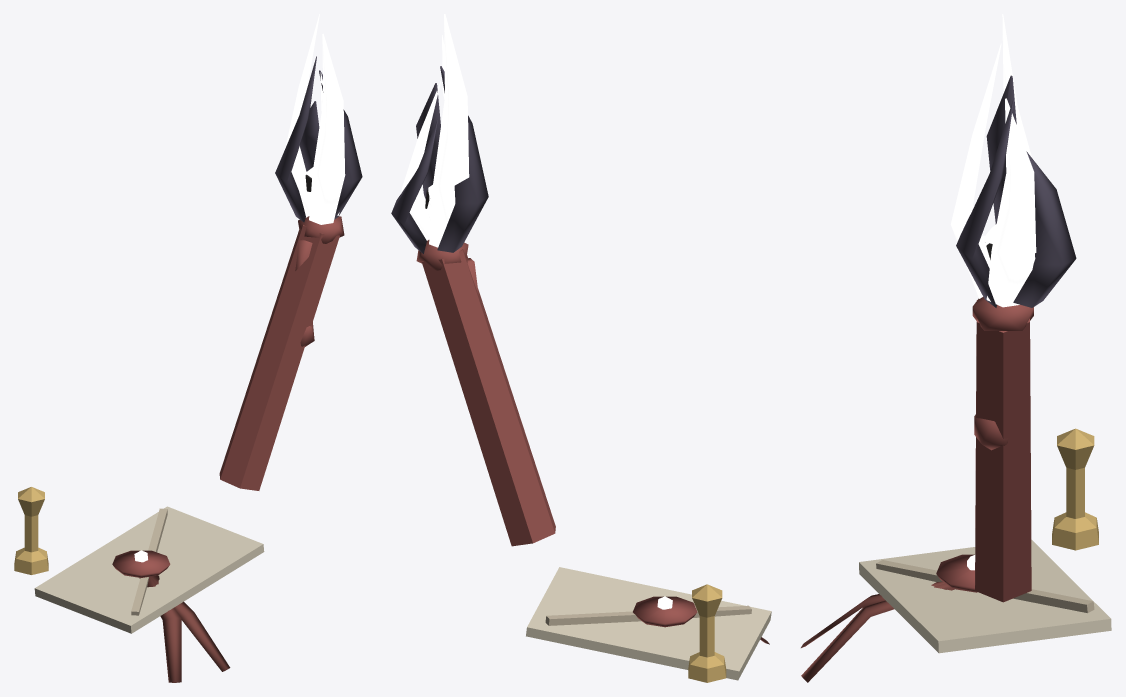
The model's file is ember-seal-wax-flame.glb.
3 renders of one model, left to right at view 1: azimuth 30°, elevation 25°; view 2: azimuth 150°, elevation 25°; view 3: azimuth 270°, elevation 25°, orthographic. The views are drawn at different scales.
Parts seen in each view (by area): view 1: ember_seal_wax_flame; view 2: ember_seal_wax_flame; view 3: ember_seal_wax_flame.
Boxes of the visible parts, x1,y1,x2,y2 form: ember_seal_wax_flame: [14, 14, 362, 682]; ember_seal_wax_flame: [391, 14, 771, 682]; ember_seal_wax_flame: [801, 14, 1111, 682].
Bounding box in the file's own units: 0.5505 × 0.949 × 0.3443.
